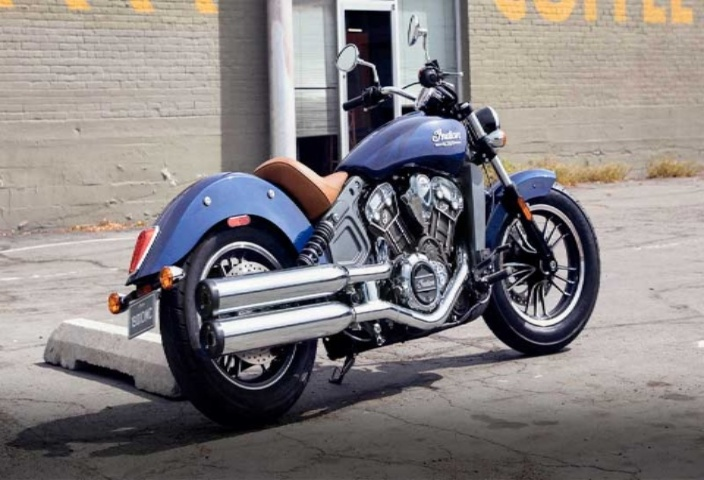motorcycle: (43, 5, 661, 433)
